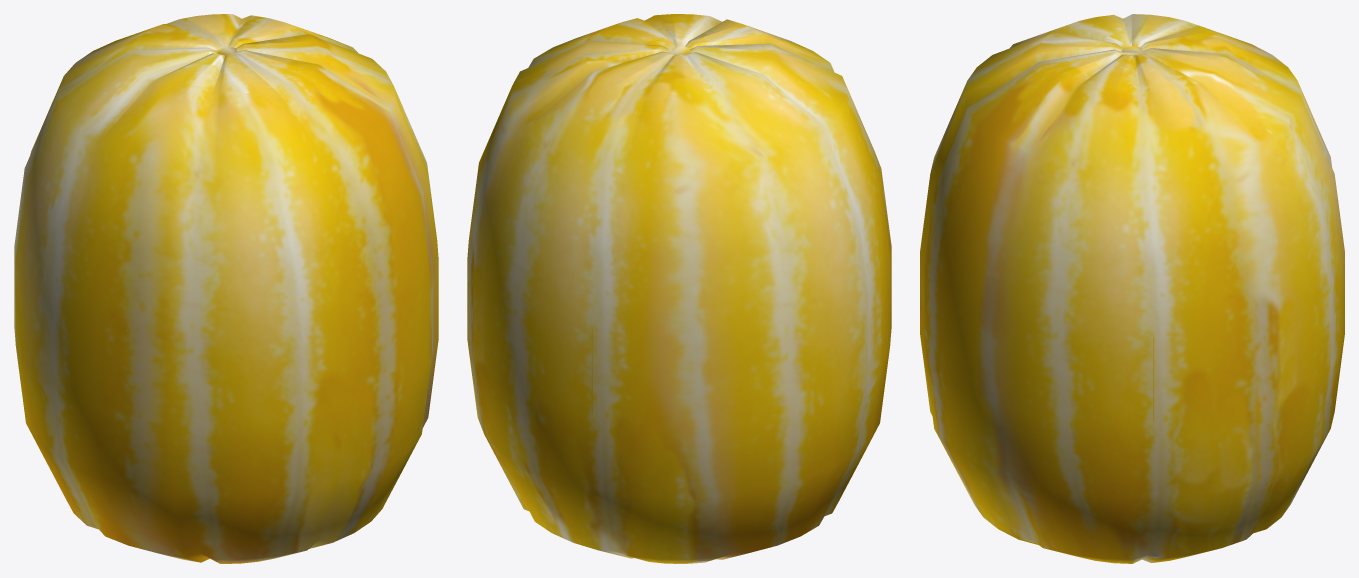
The model's file is koreamelon.gltf.
3 views of the same model, side by side, from view 1: azimuth 30°, elevation 25°; view 2: azimuth 150°, elevation 25°; view 3: azimuth 270°, elevation 25° (orthographic).
Visible parts, largest first — view 1: Kmelon; view 2: Kmelon; view 3: Kmelon.
Boxes of the visible parts, x1,y1,x2,y2 form: Kmelon: (14, 14, 438, 563); Kmelon: (467, 14, 891, 563); Kmelon: (920, 14, 1344, 563).
Bounding box in the file's own units: 2.1 × 2.65 × 2.1.
Materials: 1 (1 with a texture image).
